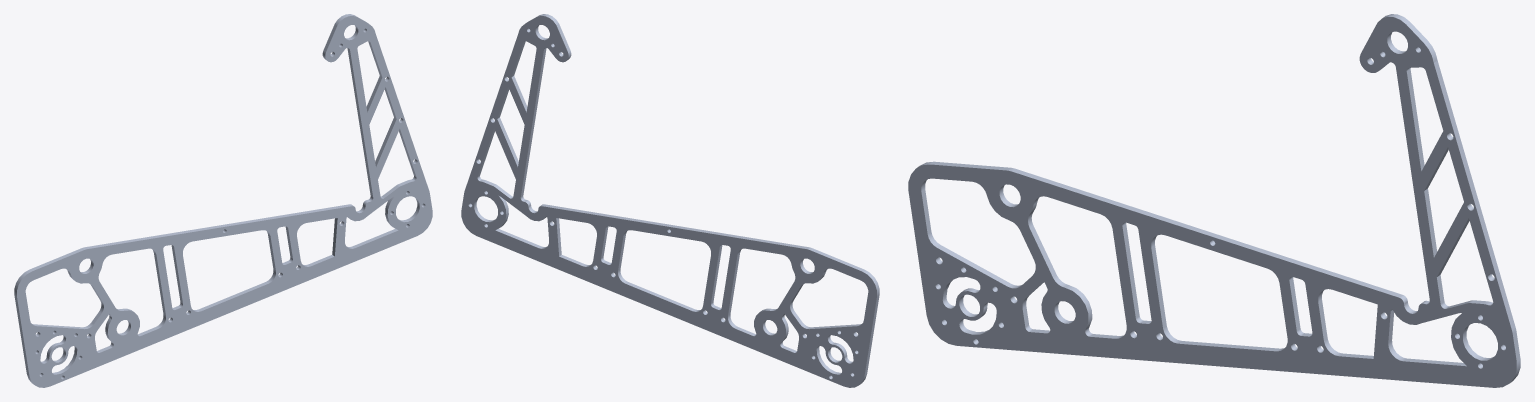
3 views of the same model, side by side, from view 1: azimuth 30°, elevation 25°; view 2: azimuth 150°, elevation 25°; view 3: azimuth 330°, elevation 25° (orthographic). The views are drawn at different scales.
Parts seen in each view (by area): view 1: 圆角13; view 2: 圆角13; view 3: 圆角13.
Boxes of the visible parts, x1=… form: 圆角13: x1=14, y1=14, x2=432, y2=387; 圆角13: x1=461, y1=14, x2=879, y2=387; 圆角13: x1=908, y1=14, x2=1520, y2=387.
Bounding box in the file's own units: 46.22 × 31.61 × 0.5.
